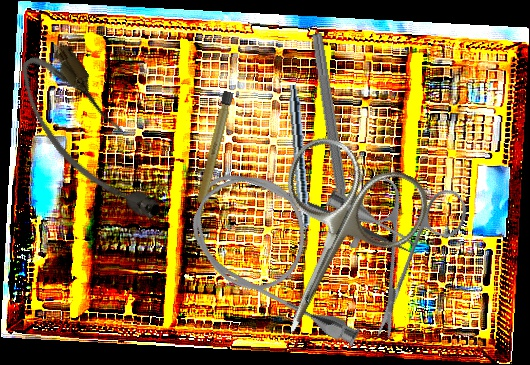Cannula: (173, 138, 421, 353), (7, 36, 173, 242)
Fixation Ring: (293, 31, 363, 253)
Handpiece: (284, 84, 314, 255)
Iris Scissors: (225, 127, 439, 363), (306, 145, 504, 343)
Scalpel Handle: (191, 90, 234, 221)
Spatula Surgical: (260, 176, 421, 264)
